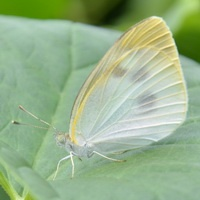insect: (49, 17, 186, 159), (70, 23, 106, 71)
